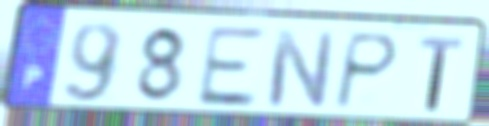8: (133, 24, 189, 104)
9: (60, 20, 130, 104)
E: (192, 23, 267, 109)
N: (264, 28, 338, 110)
P: (330, 30, 403, 112)
T: (416, 34, 465, 114)
